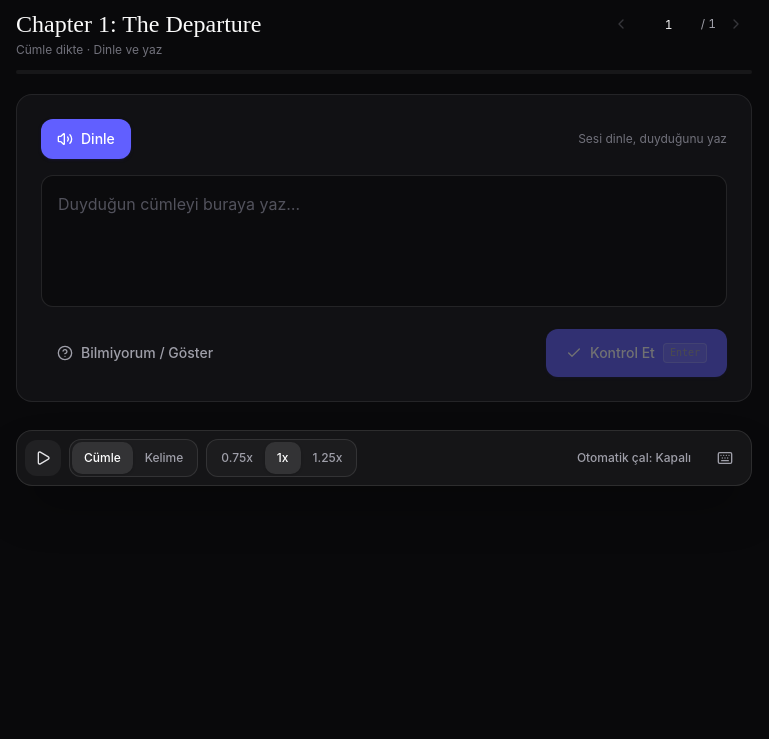
Test: StudySessionView Component (Faz 1 & Faz 3) › reveals reviewing state with diff, original text, translation, and correction input when answer has mistakes
This screenshot has width=769, height=739.
# Missing "small brown"
Type "He packed his suitcase." into the text box.
click(384, 241); type("He packed his suitcase.")  # box 41,175 -> 727,306
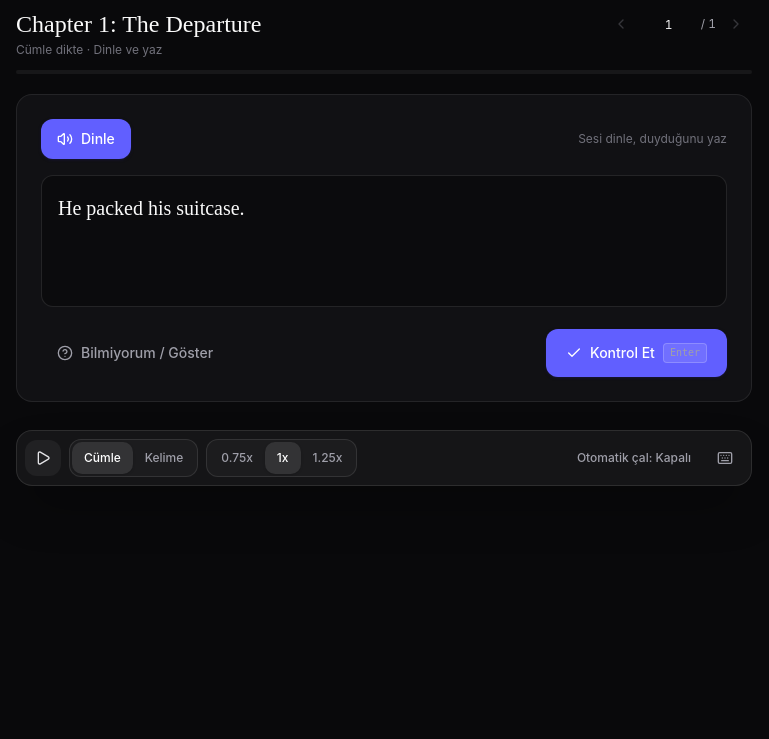
Click the button "Kontrol Et Enter".
click(637, 352)  # box 546,328 -> 727,376
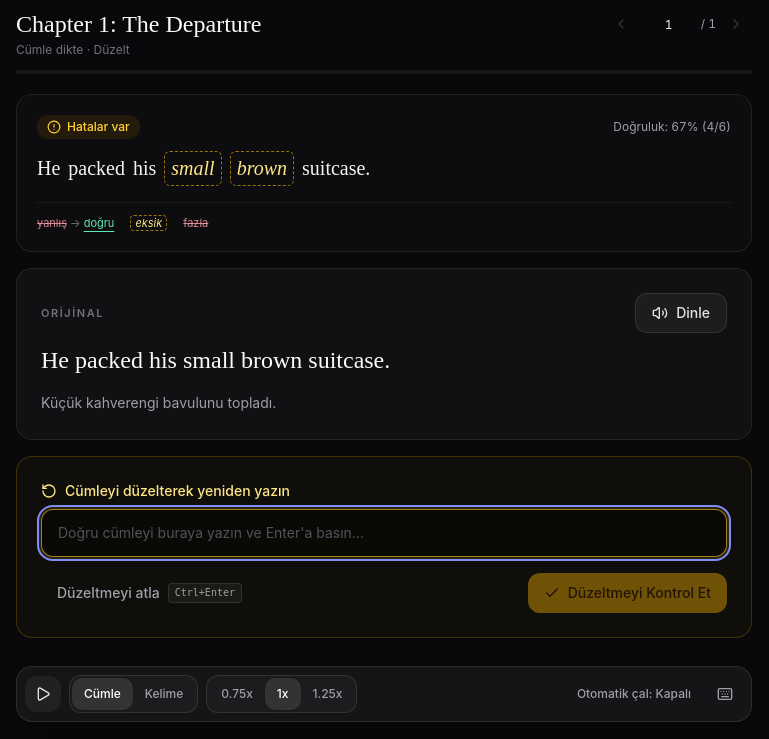
Result: the element named "Orijinal cümle" reads "He packed his small brown suitcase." at 41,341 -> 390,380
Result: the text "Küçük kahverengi bavulunu topladı." is shown at 41,394 -> 276,411
Result: the text "Cümleyi düzelterek yeniden yazın" is shown at 41,482 -> 290,499
